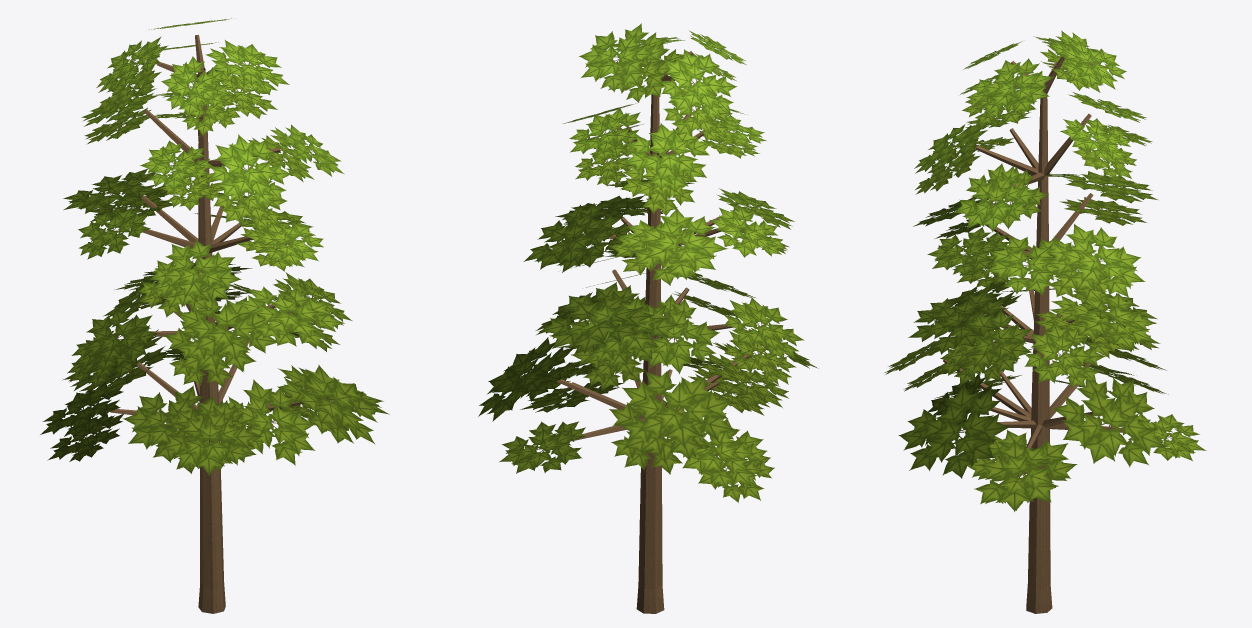
File: maple2_b.glb
The picture shows the model from 3 angles, left to right: view 1: azimuth 30°, elevation 25°; view 2: azimuth 150°, elevation 25°; view 3: azimuth 270°, elevation 25°; orthographic projection. The views are drawn at different scales.
Visible parts, largest first — view 1: maple2_b; view 2: maple2_b; view 3: maple2_b.
Boxes of the visible parts, <box> form: maple2_b: <box>40,18,389,613</box>; maple2_b: <box>478,23,817,613</box>; maple2_b: <box>884,30,1206,613</box>.
Size of the model in its own units: 4.36 by 7.45 by 4.45.
2 materials, 2 textured.
